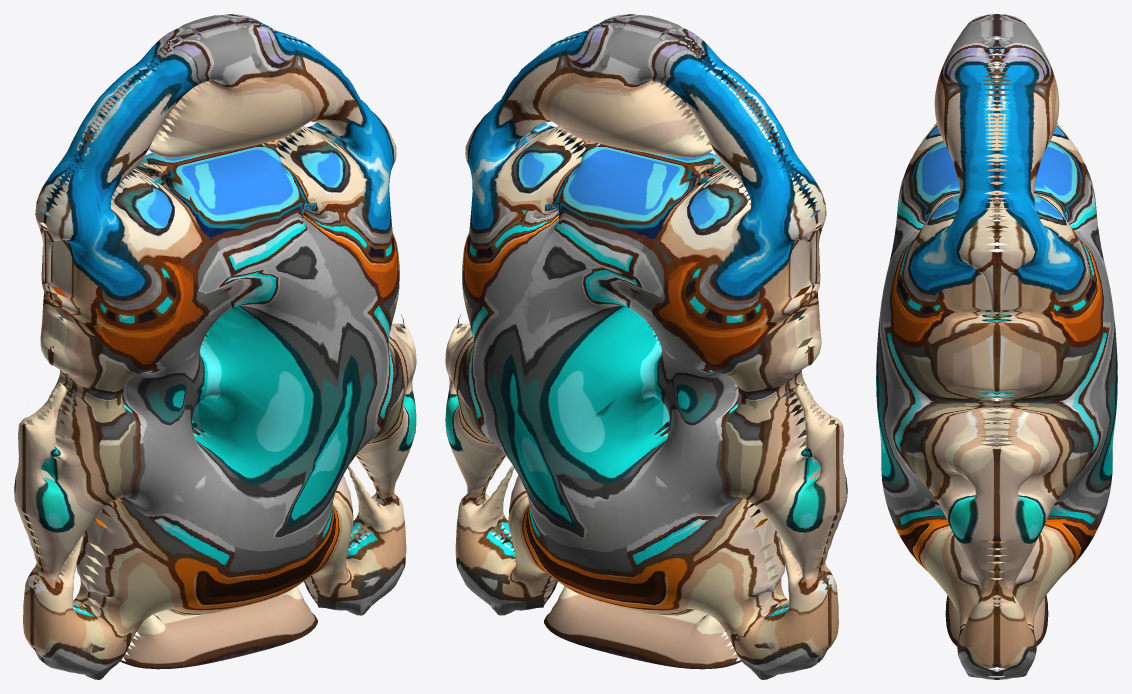
Rendered from oval_machine.glb.
3 views of the same model, side by side, from view 1: azimuth 30°, elevation 25°; view 2: azimuth 150°, elevation 25°; view 3: azimuth 270°, elevation 25° (orthographic). The views are drawn at different scales.
Parts seen in each view (by area): view 1: oval_machine; view 2: oval_machine; view 3: oval_machine.
Boxes of the visible parts, box(x1,y1,x2,y2) form: oval_machine: box(14, 14, 416, 679); oval_machine: box(445, 14, 847, 679); oval_machine: box(876, 14, 1117, 679).
Bounding box in the file's own units: 0.984 × 1.5 × 0.5625.
Materials: 1 (1 with a texture image).
